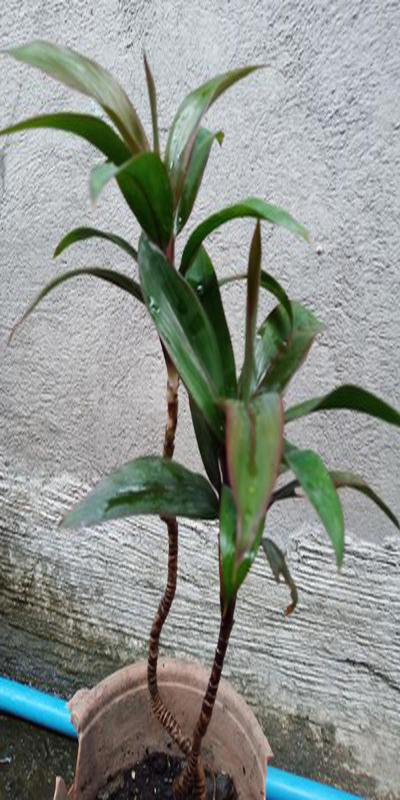Baston de san jose: (43, 57, 337, 782)
